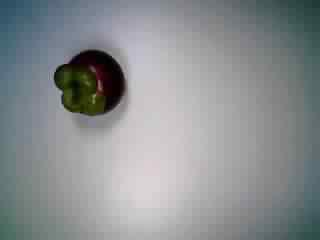mangosteen: (51, 47, 129, 119)
